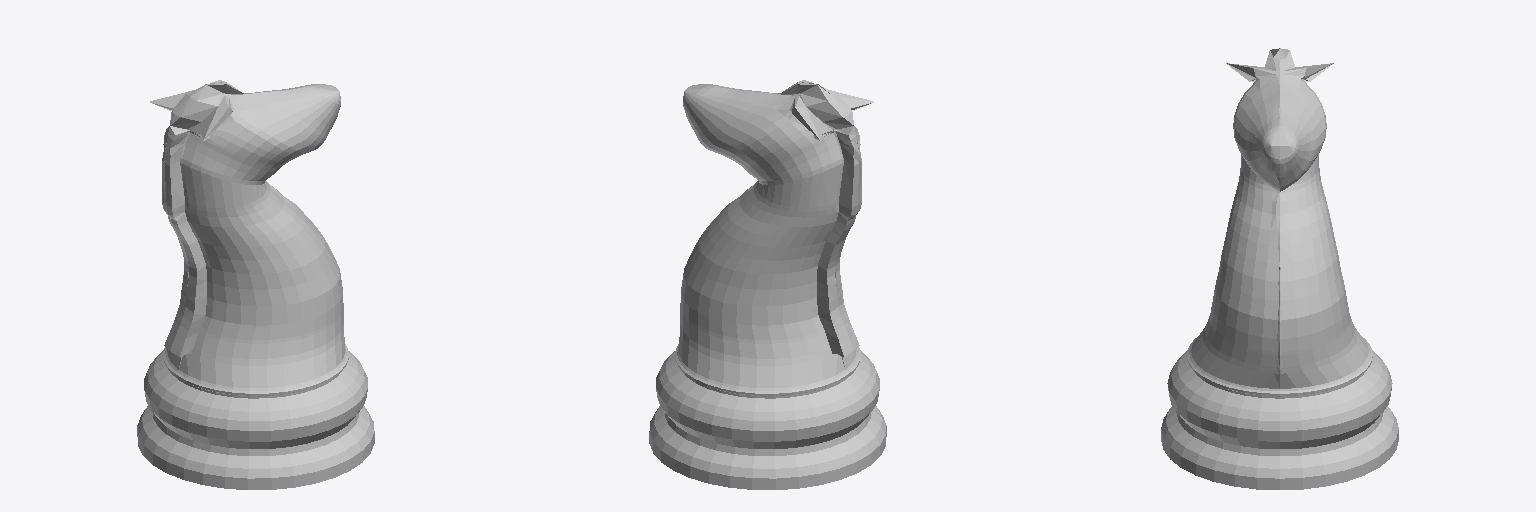
File: knight.obj
The picture shows the model from 3 angles: view 1: azimuth 30°, elevation 25°; view 2: azimuth 150°, elevation 25°; view 3: azimuth 270°, elevation 25°; orthographic projection.
Visible parts, largest first — view 1: Dark_Knight_2_Cylinder.014; view 2: Dark_Knight_2_Cylinder.014; view 3: Dark_Knight_2_Cylinder.014.
Boxes of the visible parts, x1,y1,x2,y2 form: Dark_Knight_2_Cylinder.014: [137, 80, 374, 489]; Dark_Knight_2_Cylinder.014: [649, 80, 886, 489]; Dark_Knight_2_Cylinder.014: [1161, 48, 1398, 489].
Size of the model in its own units: 1.24 by 2.12 by 1.24.